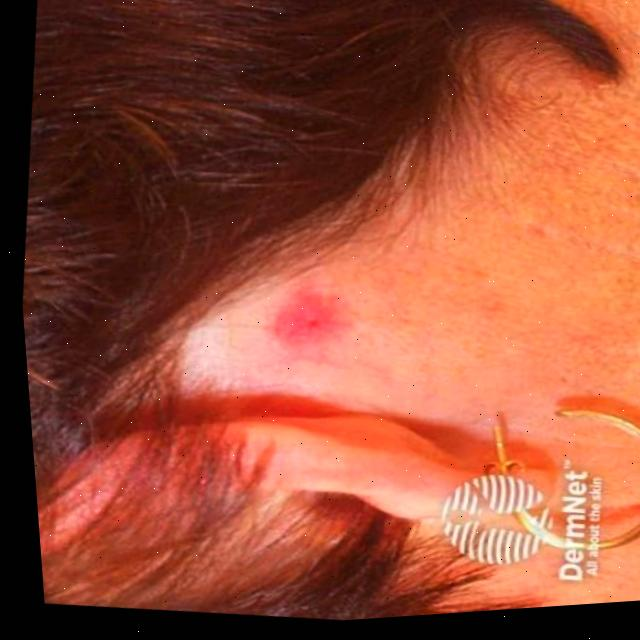lupus-detected: (207, 198, 441, 465)
